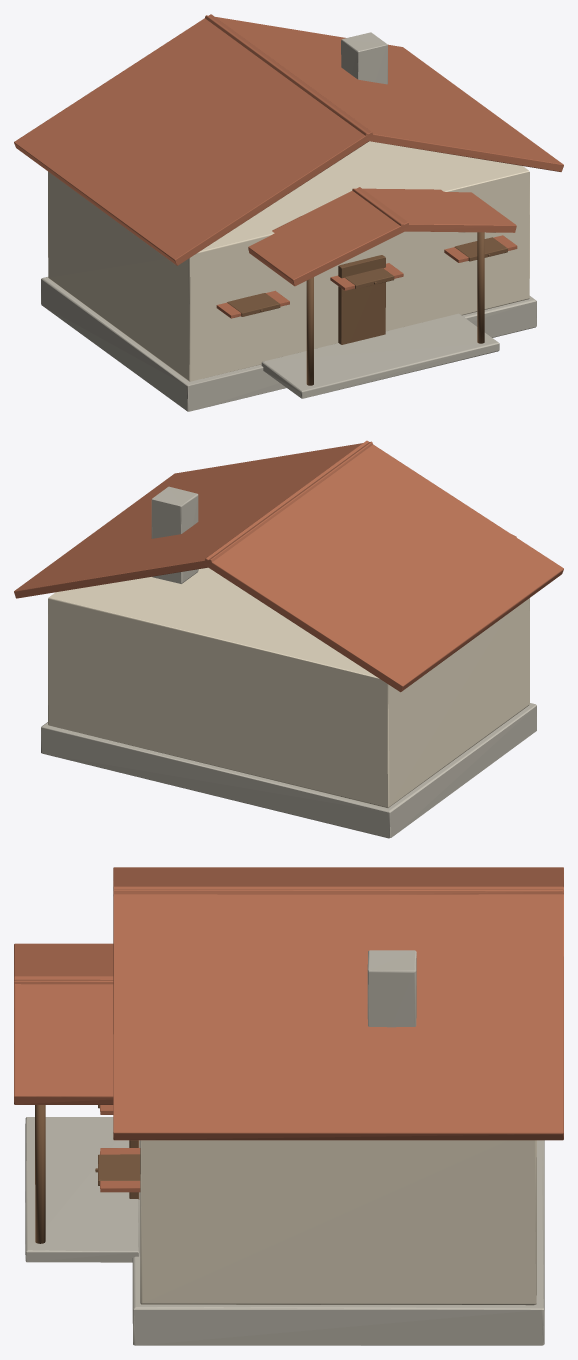
Rendered from Building_Coastal_Cottage_01_LOD1.fbx.
The picture shows the model from 3 angles, top to bottom: view 1: azimuth 30°, elevation 25°; view 2: azimuth 150°, elevation 25°; view 3: azimuth 270°, elevation 25°; orthographic projection. The views are drawn at different scales.
Parts seen in each view (by area): view 1: Cottage_Walls, Cottage_Roof_L, Cottage_Roof_R, Cottage_Porch, Cottage_Base, Cottage_PorchRoof_L, Cottage_PorchRoof_R, Cottage_Door, Cottage_Chimney, Cottage_PorchPost_1.8, Cottage_PorchPost_-1.8, Cottage_Window_-2.4_Frame (+2 smaller); view 2: Cottage_Walls, Cottage_Roof_L, Cottage_Roof_R, Cottage_Base, Cottage_Chimney; view 3: Cottage_Roof_R, Cottage_Walls, Cottage_Base, Cottage_Porch, Cottage_PorchRoof_R, Cottage_Roof_L, Cottage_PorchRoof_L, Cottage_Chimney, Cottage_PorchPost_1.8, Cottage_Window_2.4_Frame.
Boxes of the visible parts, left/top/right/bottom form: Cottage_Walls: left=48, top=141, right=529, bottom=381; Cottage_Roof_L: left=14, top=14, right=373, bottom=265; Cottage_Roof_R: left=205, top=15, right=563, bottom=171; Cottage_Porch: left=261, top=313, right=499, bottom=398; Cottage_Base: left=41, top=277, right=536, bottom=411; Cottage_PorchRoof_L: left=248, top=187, right=409, bottom=286; Cottage_PorchRoof_R: left=352, top=188, right=516, bottom=232; Cottage_Door: left=338, top=255, right=385, bottom=344; Cottage_Chimney: left=341, top=32, right=387, bottom=84; Cottage_PorchPost_1.8: left=477, top=232, right=484, bottom=343; Cottage_PorchPost_-1.8: left=306, top=277, right=313, bottom=385; Cottage_Window_-2.4_Frame: left=227, top=293, right=280, bottom=316; Cottage_Walls: left=48, top=567, right=529, bottom=808; Cottage_Roof_L: left=204, top=440, right=563, bottom=692; Cottage_Roof_R: left=14, top=441, right=372, bottom=598; Cottage_Base: left=41, top=703, right=536, bottom=838; Cottage_Chimney: left=151, top=486, right=198, bottom=583; Cottage_Roof_R: left=113, top=886, right=563, bottom=1140; Cottage_Walls: left=140, top=1140, right=536, bottom=1305; Cottage_Base: left=132, top=1140, right=544, bottom=1345; Cottage_Porch: left=25, top=1117, right=139, bottom=1262; Cottage_PorchRoof_R: left=14, top=976, right=113, bottom=1104; Cottage_Roof_L: left=113, top=867, right=563, bottom=894; Cottage_PorchRoof_L: left=14, top=943, right=113, bottom=984; Cottage_Chimney: left=367, top=950, right=416, bottom=1027; Cottage_PorchPost_1.8: left=35, top=1105, right=45, bottom=1243; Cottage_Window_2.4_Frame: left=98, top=1154, right=140, bottom=1185.
Size of the model in its own units: 822 by 490 by 719.
